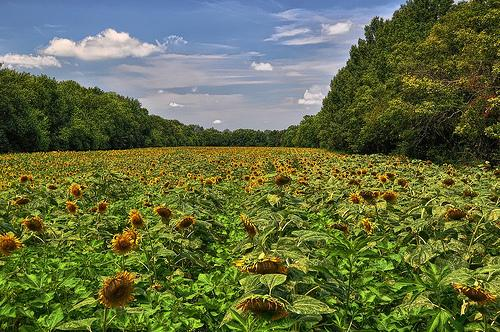sunflower: (238, 292, 287, 321), (98, 269, 134, 306), (234, 255, 288, 274), (110, 230, 140, 252), (0, 232, 25, 257), (173, 215, 197, 232), (21, 214, 46, 230)
